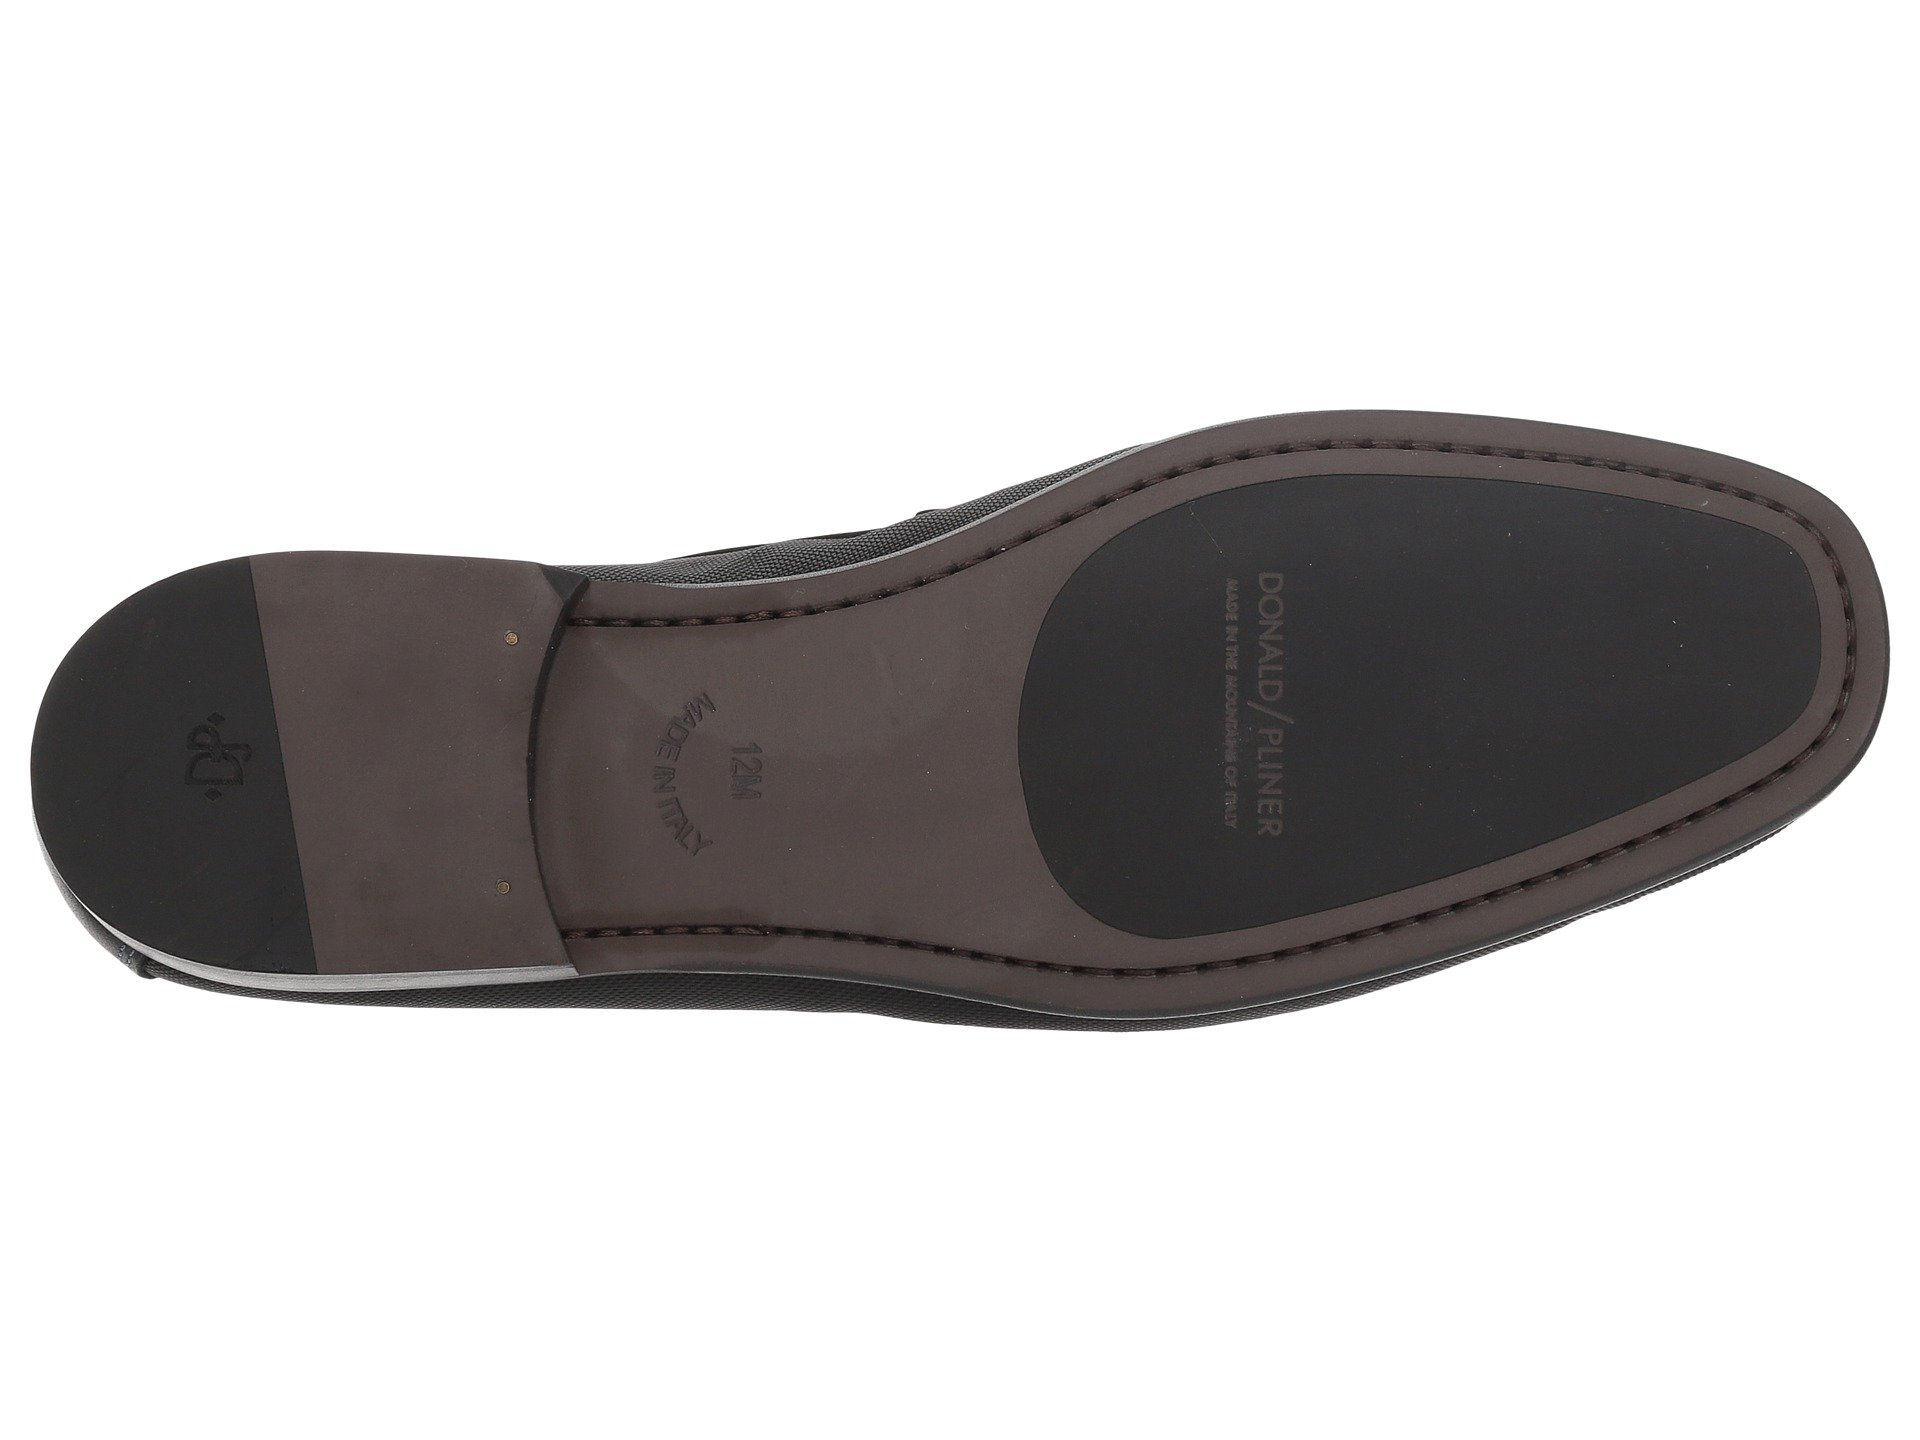circle: (1185, 560, 1305, 849)
line: (249, 610, 381, 892)
quad: (1185, 560, 1305, 849)
text: (1185, 560, 1305, 849), (172, 696, 260, 818)
